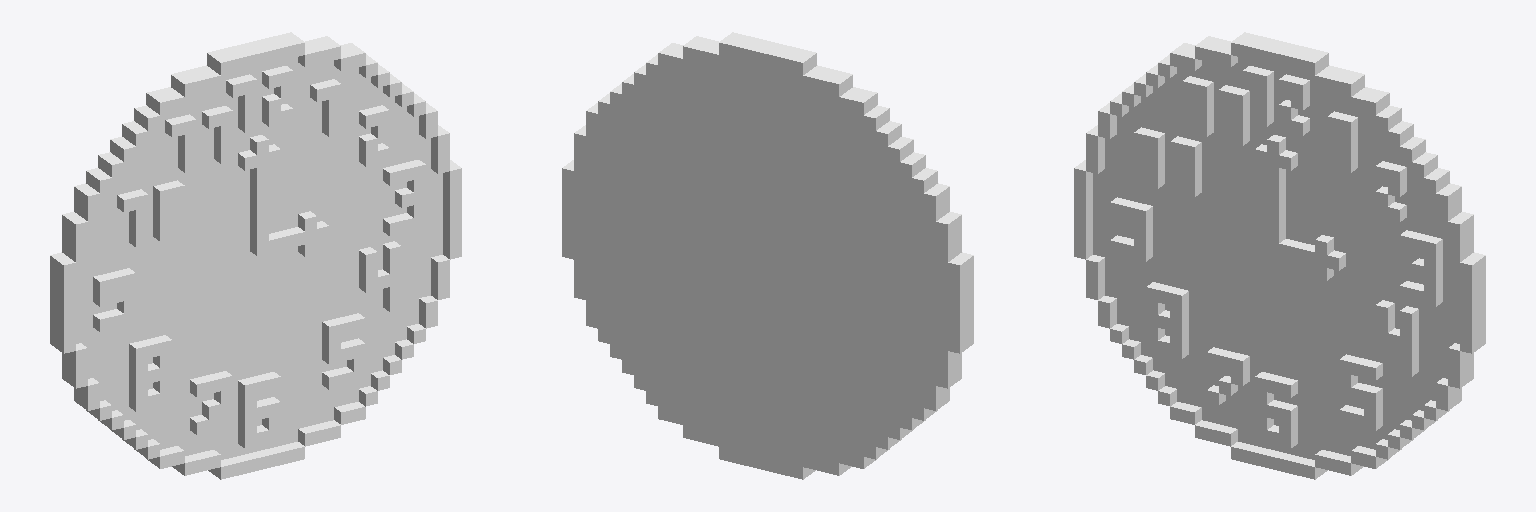
Rendered from relogio.obj.
3 views of the same model, side by side, from view 1: azimuth 30°, elevation 25°; view 2: azimuth 150°, elevation 25°; view 3: azimuth 330°, elevation 25° (orthographic).
Visible parts, largest first — view 1: object 1; view 2: object 1; view 3: object 1.
Part boxes in pixels (bbox=[...]): object 1: bbox=[50, 32, 461, 479]; object 1: bbox=[562, 32, 973, 479]; object 1: bbox=[1074, 32, 1485, 479].
Size of the model in its own units: 3.3 by 3.3 by 0.2.